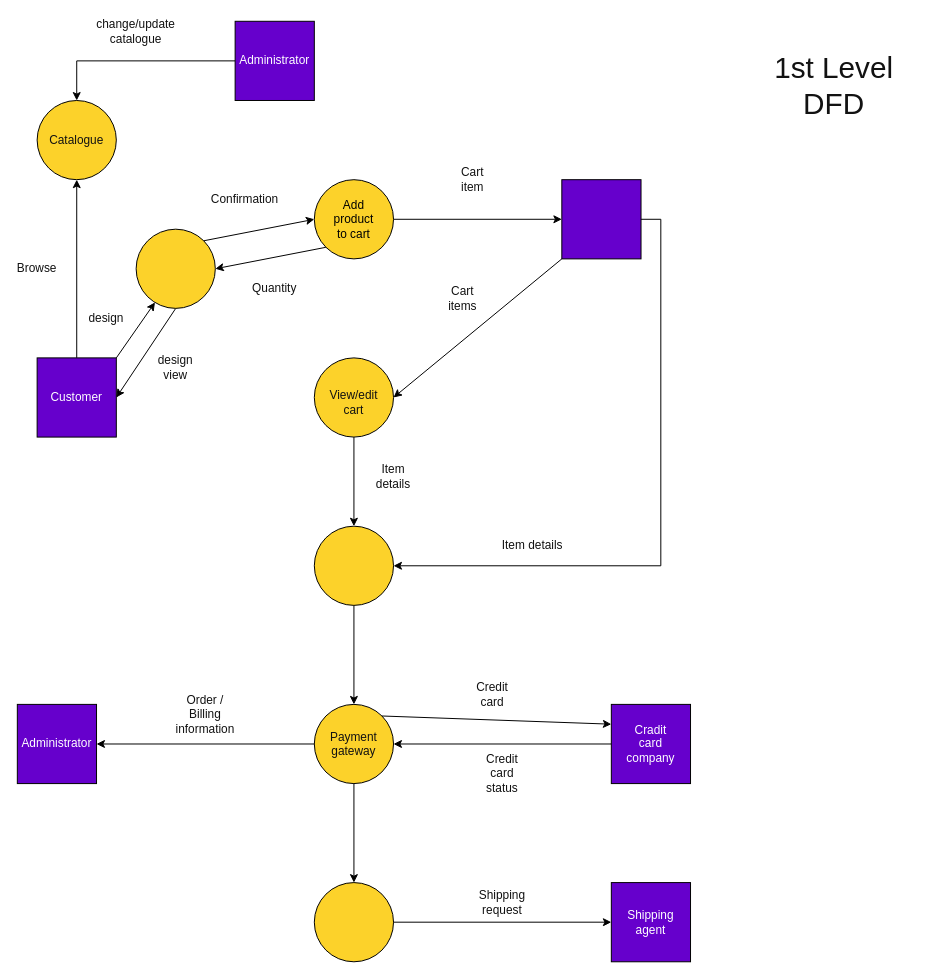
Some shapes in this 945 by 979 pixel diagram are drawn without their labels. The centre of each missing label's shape, as x and y in pixels:
"Checkout" belongs at point (353, 565).
"issue order to shipping again" belongs at point (353, 922).
"Product design" belongs at point (175, 268).
"Shopping cart" belongs at point (601, 219).
